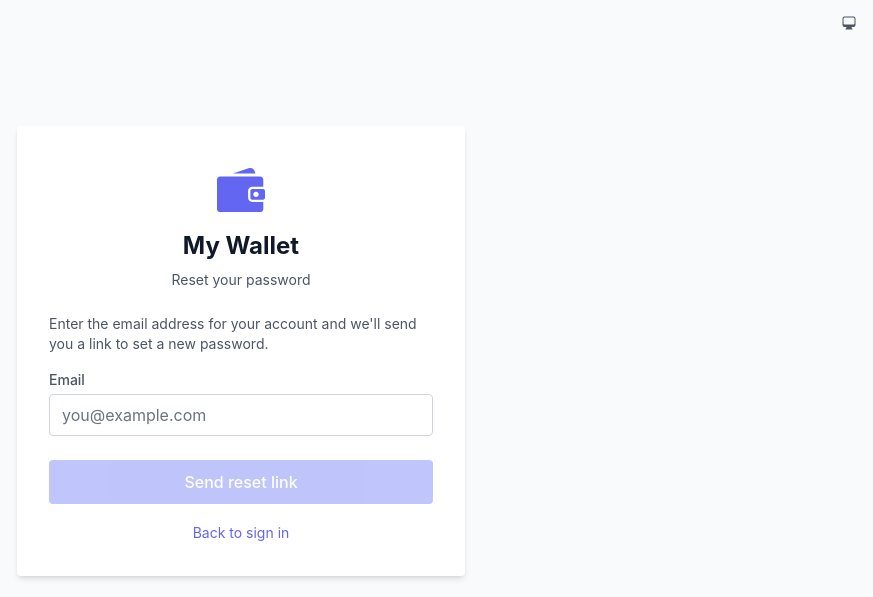
ForgotPassword › disables the button until an email is entered
The width and height of the screenshot is (873, 597).
Expected: the button "Send reset link" is disabled, [49,460,433,504]
Type "user@example.com" into the field labelled "Email" at (241, 415), box [49,394,433,436]
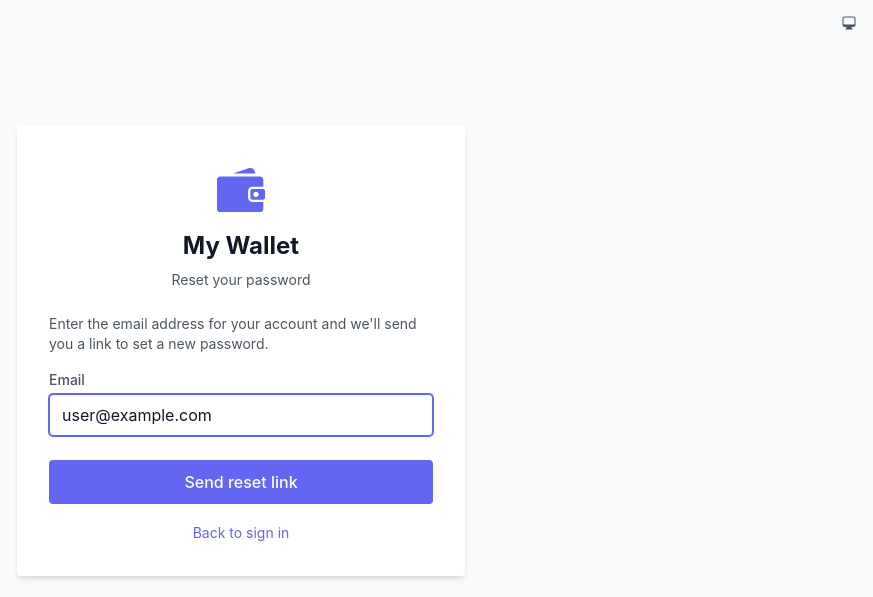
Expected: the button "Send reset link" is enabled, [49,460,433,504]
